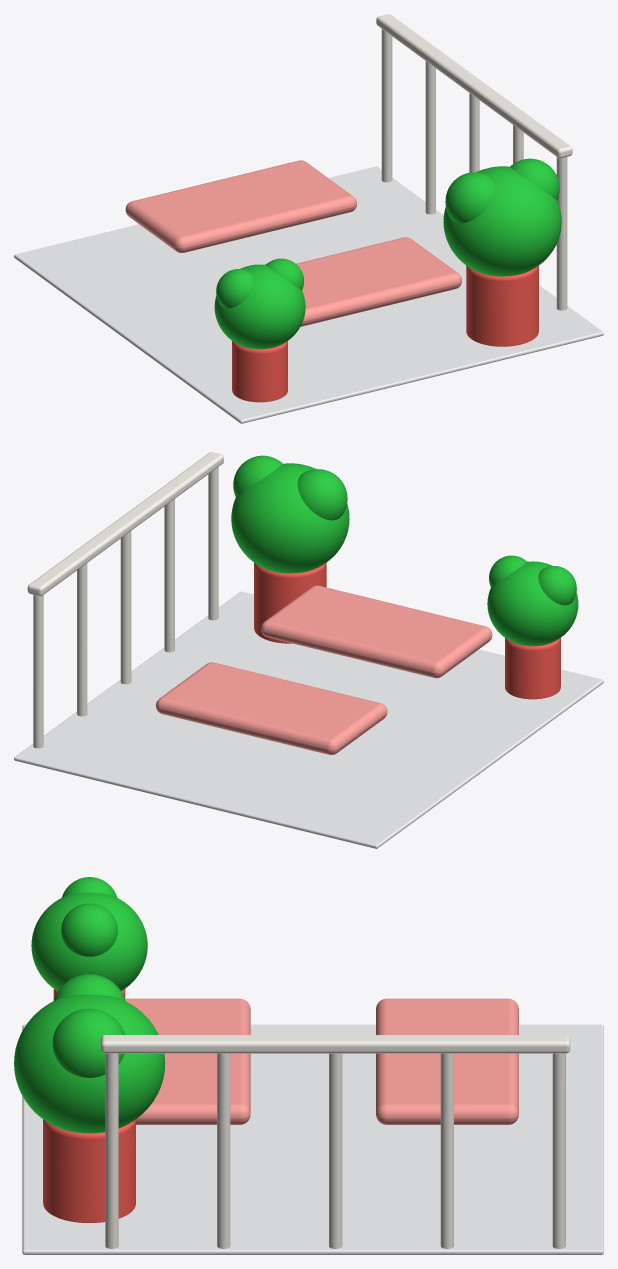
The model's file is cozy_living_room__sunroom.glb.
3 renders of one model, top to bottom at view 1: azimuth 30°, elevation 25°; view 2: azimuth 150°, elevation 25°; view 3: azimuth 270°, elevation 25°, orthographic. The views are drawn at different scales.
Parts seen in each view (by area): view 1: Set, Flat_001; view 2: Set, Flat_001; view 3: Set, Flat_001.
Boxes of the visible parts, bbox=[...] form: Set: bbox=[125, 14, 572, 402]; Flat_001: bbox=[14, 166, 603, 423]; Set: bbox=[27, 452, 578, 754]; Flat_001: bbox=[14, 591, 603, 848]; Set: bbox=[14, 877, 570, 1248]; Flat_001: bbox=[22, 1024, 603, 1254].
Size of the model in its own units: 2.4 by 1.05 by 2.64.
